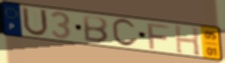3: (50, 11, 74, 40)
B: (82, 14, 109, 44)
C: (111, 18, 139, 49)
F: (146, 22, 172, 51)
H: (173, 24, 202, 57)
U: (21, 6, 51, 38)
